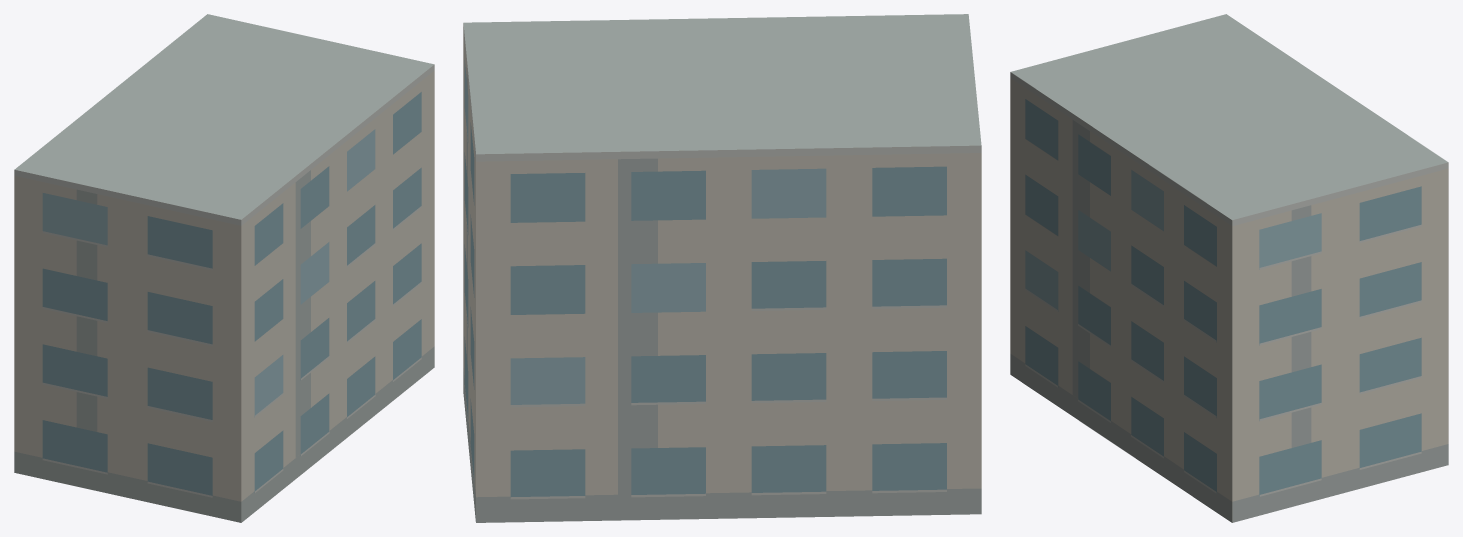
File: residential-4a4f1c14-d507-428e-bef6-c71603324b77.glb
The picture shows the model from 3 angles, left to right: view 1: azimuth 30°, elevation 25°; view 2: azimuth 150°, elevation 25°; view 3: azimuth 270°, elevation 25°; orthographic projection. The views are drawn at different scales.
Parts seen in each view (by area): view 1: residential-4a4f1c14-d507-428e-bef6-c71603324b77.tmp; view 2: residential-4a4f1c14-d507-428e-bef6-c71603324b77.tmp; view 3: residential-4a4f1c14-d507-428e-bef6-c71603324b77.tmp.
Boxes of the visible parts, bbox=[...] form: residential-4a4f1c14-d507-428e-bef6-c71603324b77.tmp: bbox=[14, 14, 434, 522]; residential-4a4f1c14-d507-428e-bef6-c71603324b77.tmp: bbox=[463, 14, 981, 522]; residential-4a4f1c14-d507-428e-bef6-c71603324b77.tmp: bbox=[1010, 14, 1448, 522].
Size of the model in its own units: 17.83 by 12.2 by 16.02.
